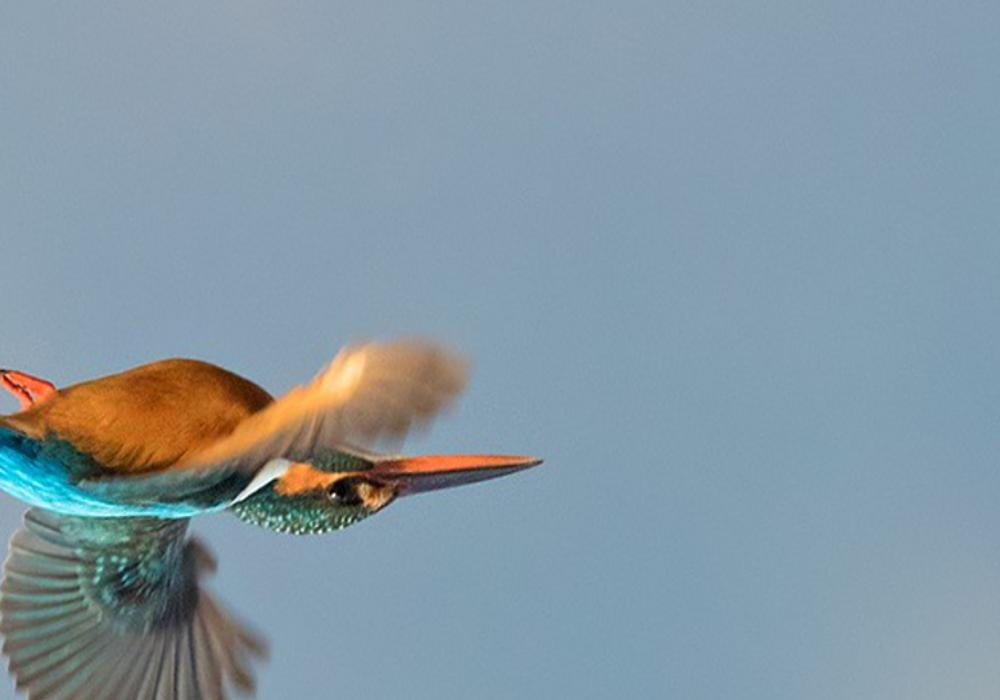kingfisher: (1, 330, 564, 700)
